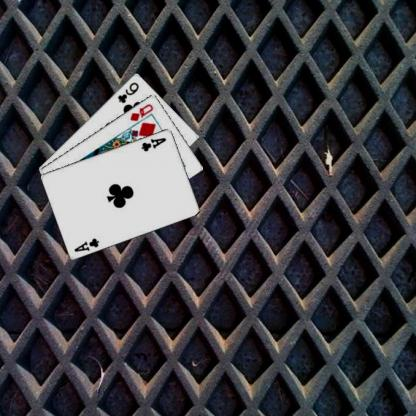9C: (115, 79, 140, 104)
AC: (72, 235, 100, 253), (140, 135, 168, 152)
QD: (128, 101, 154, 122)
